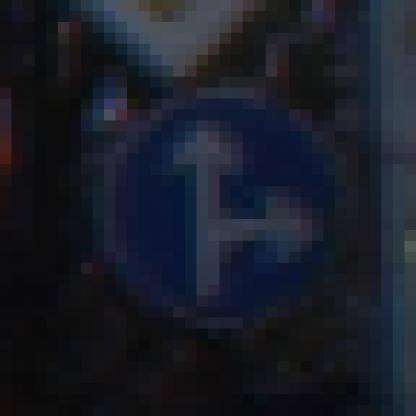Straight or Right: (71, 67, 360, 362)
